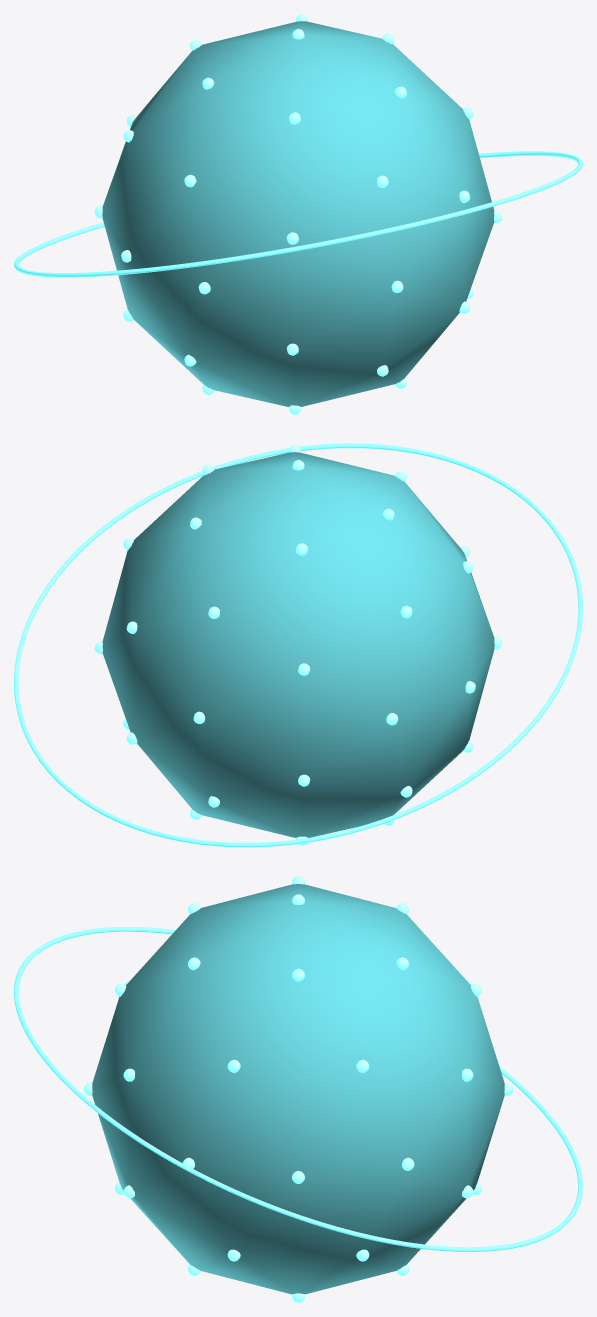
Rendered from core.glb.
3 renders of one model, top to bottom at view 1: azimuth 30°, elevation 25°; view 2: azimuth 150°, elevation 25°; view 3: azimuth 270°, elevation 25°, orthographic. The views are drawn at different scales.
Parts seen in each view (by area): view 1: shell, ring, core; view 2: shell, ring, core; view 3: shell, ring, core.
Boxes of the visible parts, bbox=[...] form: shell: bbox=[102, 21, 494, 406]; ring: bbox=[14, 151, 582, 277]; core: bbox=[94, 14, 502, 414]; shell: bbox=[102, 452, 494, 837]; ring: bbox=[14, 443, 582, 847]; core: bbox=[94, 445, 502, 845]; shell: bbox=[92, 884, 504, 1294]; ring: bbox=[14, 927, 582, 1251]; core: bbox=[83, 876, 513, 1302].
Bounding box in the file's own units: 2.92 × 2.06 × 2.73.
